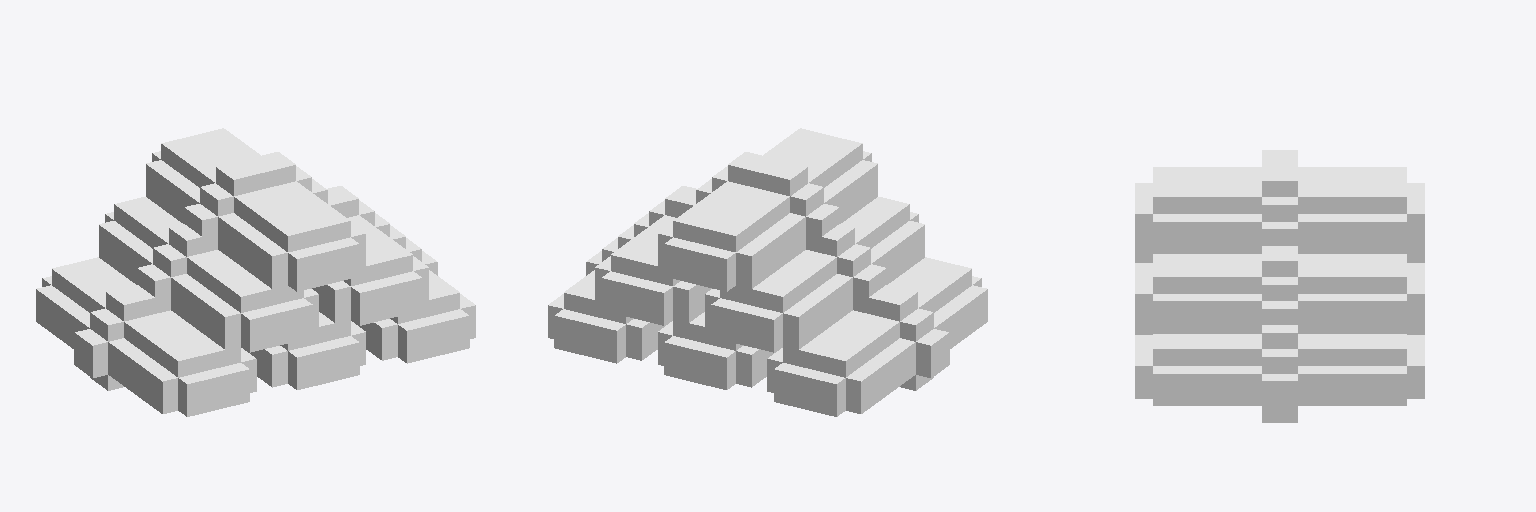
File: ReinforcedSteel.obj
3 views of the same model, side by side, from view 1: azimuth 30°, elevation 25°; view 2: azimuth 150°, elevation 25°; view 3: azimuth 270°, elevation 25° (orthographic).
Visible parts, largest first — view 1: object 1; view 2: object 1; view 3: object 1.
Part boxes in pixels (left/top/right/bottom): object 1: left=36, top=128, right=475, bottom=416; object 1: left=548, top=128, right=987, bottom=416; object 1: left=1135, top=150, right=1424, bottom=422.
Size of the model in its own units: 2.2 by 1.1 by 1.6.